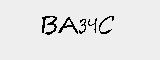А: (61, 17, 79, 33)
В: (40, 15, 59, 34)
З: (77, 16, 86, 34)
С: (95, 13, 116, 37)
Ч: (88, 16, 99, 33)
